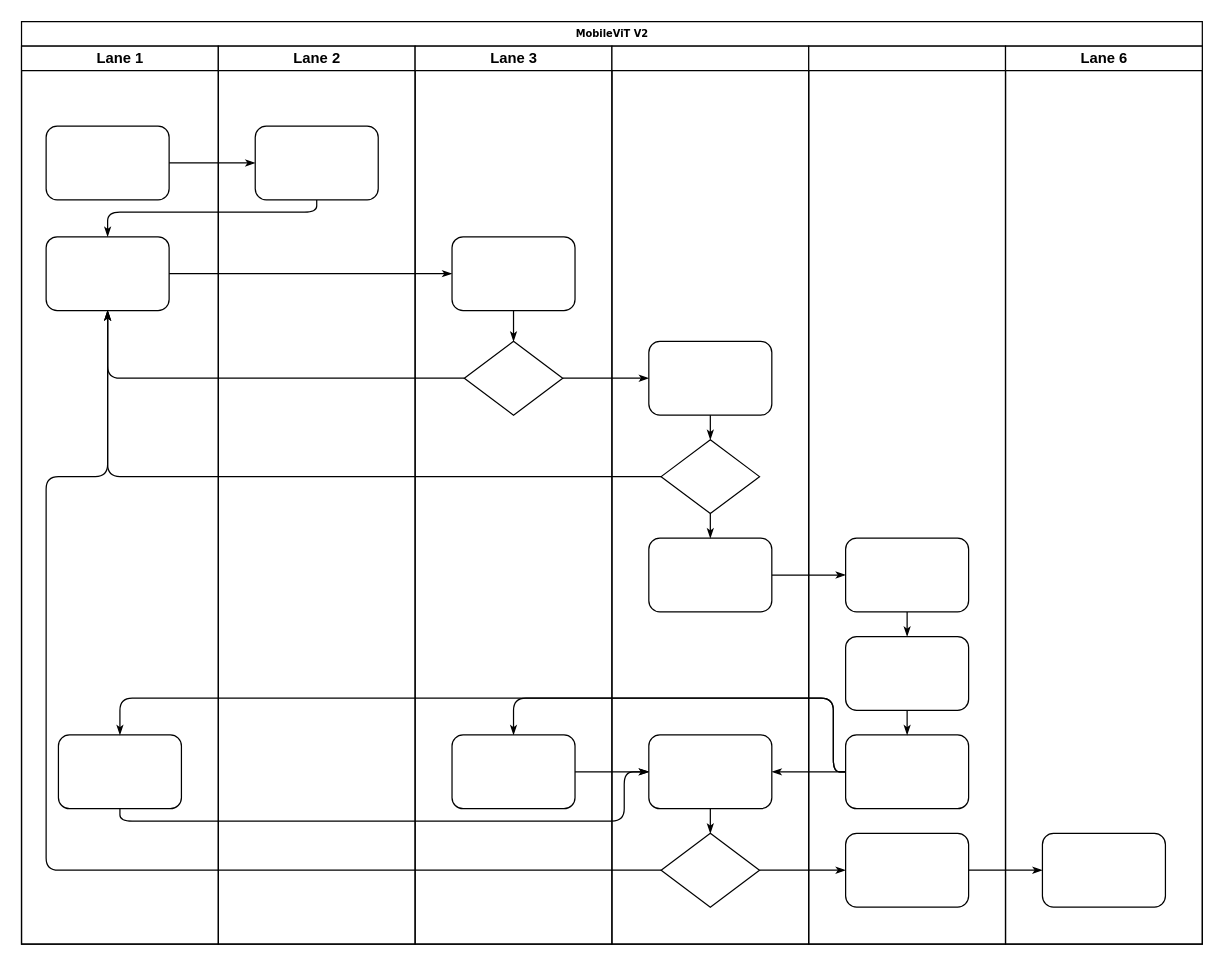
Image size: 1224x966. Some labels were removed from this diagram. The shapes that lost their labels are listed below. From the top down, each one's box as (x1, y1, x2, y2) in pixels, then its label:
(611, 45, 809, 944): Lane 4
(807, 45, 1006, 944): Lane 5
